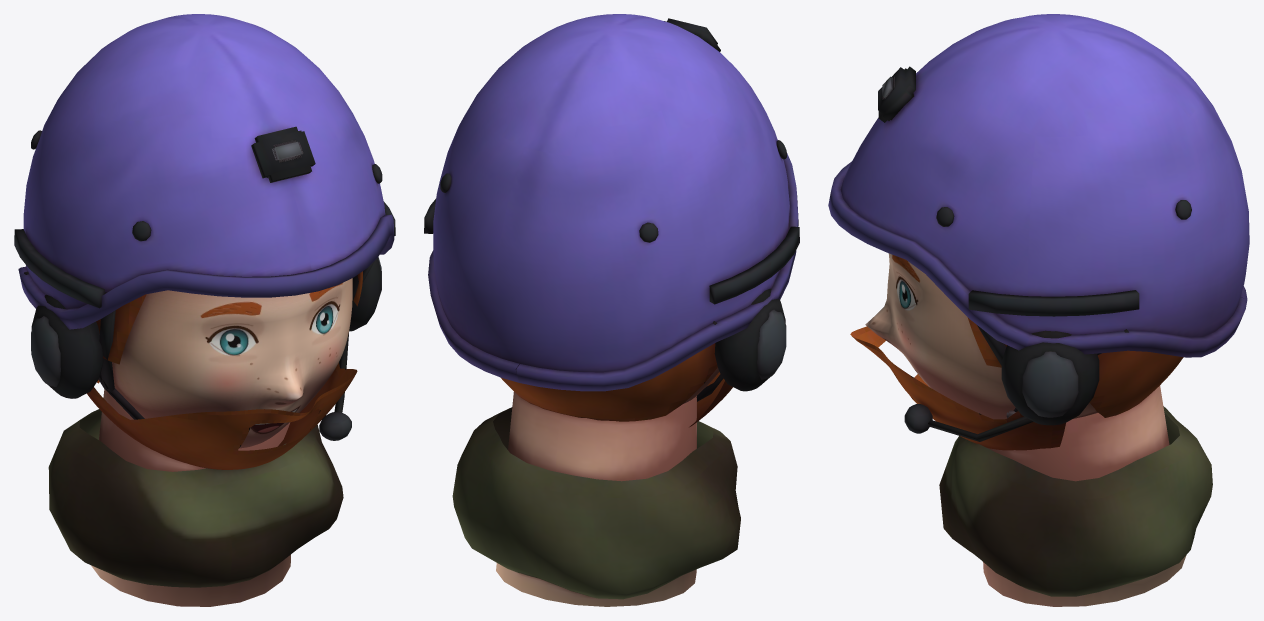
The model's file is cabeza-gunner-m.glb.
3 views of the same model, side by side, from view 1: azimuth 30°, elevation 25°; view 2: azimuth 150°, elevation 25°; view 3: azimuth 270°, elevation 25° (orthographic).
Visible parts, largest first — view 1: h_Head; view 2: h_Head; view 3: h_Head.
Part boxes in pixels (left/top/right/bottom): h_Head: left=14, top=14, right=395, bottom=606; h_Head: left=424, top=14, right=799, bottom=606; h_Head: left=828, top=14, right=1249, bottom=606.
Bounding box in the file's own units: 0.2792 × 0.4313 × 0.3022.
1 material, 1 textured.
